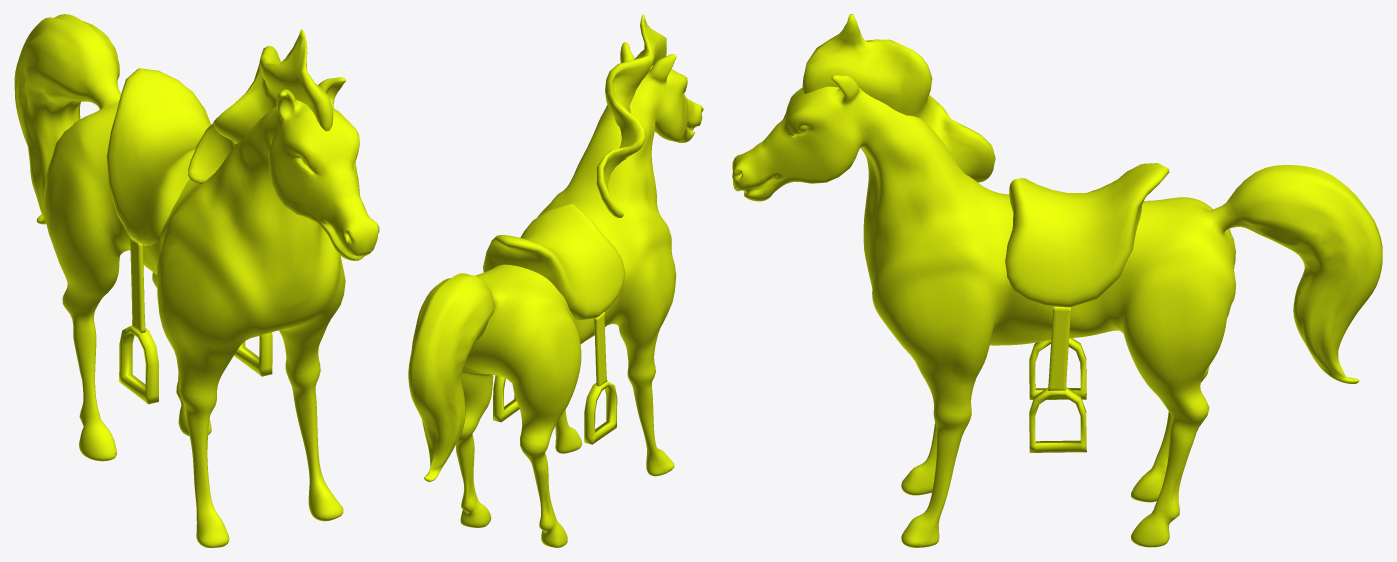
The model's file is Horse_LOD.fbx.
3 renders of one model, left to right at view 1: azimuth 30°, elevation 25°; view 2: azimuth 150°, elevation 25°; view 3: azimuth 270°, elevation 25°, orthographic. The views are drawn at different scales.
Visible parts, largest first — view 1: Horse_LOD_0; view 2: Horse_LOD_0; view 3: Horse_LOD_0.
Part boxes in pixels (x1,y1,x2,y2): Horse_LOD_0: (14, 14, 379, 547); Horse_LOD_0: (408, 14, 703, 547); Horse_LOD_0: (732, 14, 1382, 547).
Size of what is drawn, in the model's own units: 68.51 by 210 by 244.
